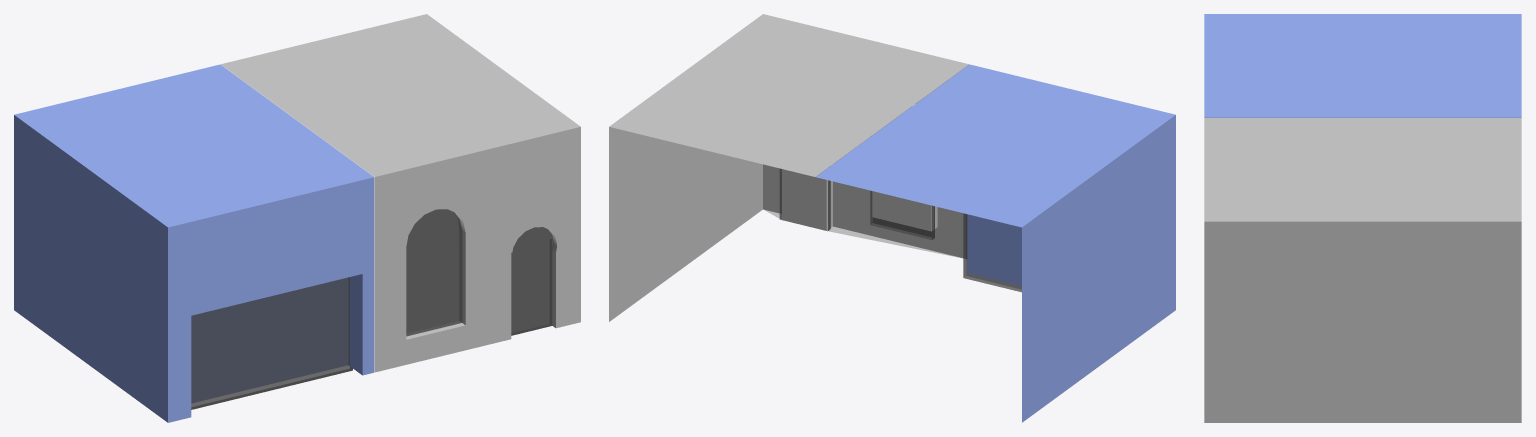
The model's file is edificio 2.fbx.
The picture shows the model from 3 angles, left to right: view 1: azimuth 30°, elevation 25°; view 2: azimuth 150°, elevation 25°; view 3: azimuth 270°, elevation 25°; orthographic projection. The views are drawn at different scales.
Visible parts, largest first — view 1: Local, Casa, Ventana y Puerta; view 2: Local, Casa, Ventana y Puerta; view 3: Casa, Local.
Part boxes in pixels (bbox=[...]): Local: bbox=[14, 64, 374, 422]; Casa: bbox=[221, 14, 580, 372]; Ventana y Puerta: bbox=[191, 209, 553, 409]; Local: bbox=[816, 64, 1175, 422]; Casa: bbox=[609, 14, 968, 321]; Ventana y Puerta: bbox=[779, 101, 1021, 292]; Casa: bbox=[1204, 118, 1521, 422]; Local: bbox=[1204, 14, 1521, 117].
Bounding box in the file's own units: 923 × 428 × 597.
